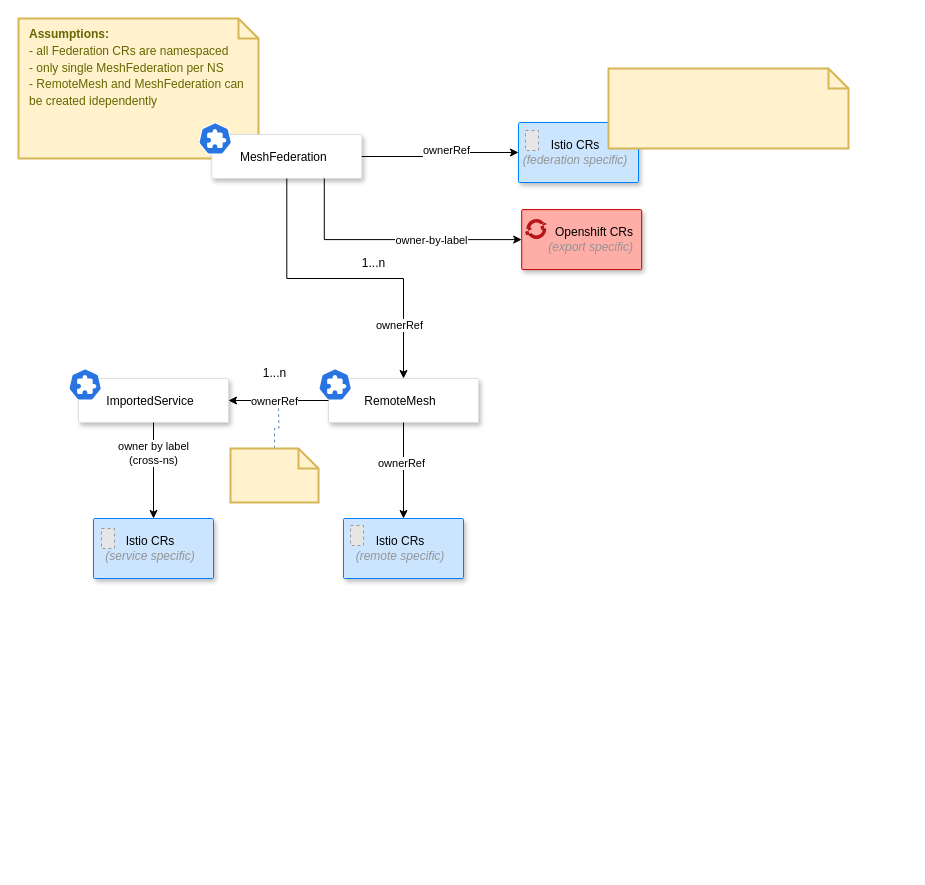
This 925x885 diagram has some shape labels left out. Grey dashed boxes stand in for pictures. Each missing label, with the centre of its shape:
"- set by FDS client" belongs at (274,475).
"TODO envoy filters can live in other ns than root ns - where we have igw" belongs at (728,108).
